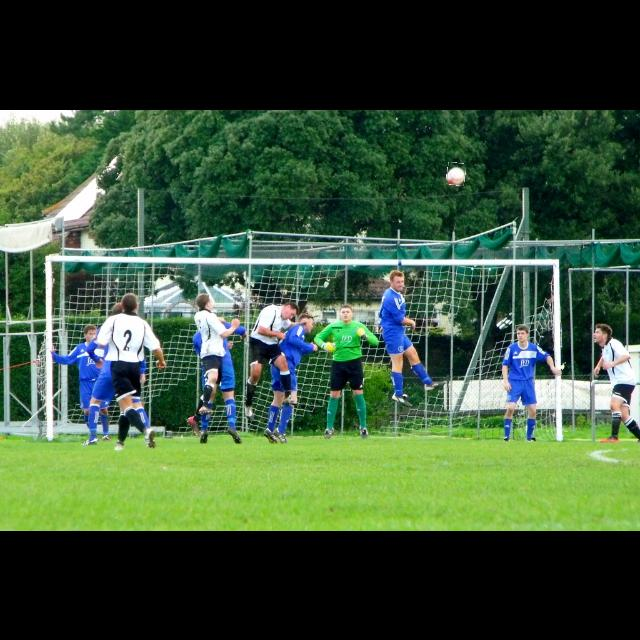Football: (446, 162, 466, 186)
